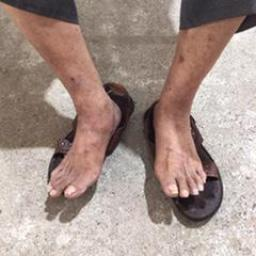Dorsal View -Both Feet-: (40, 62, 211, 217)
